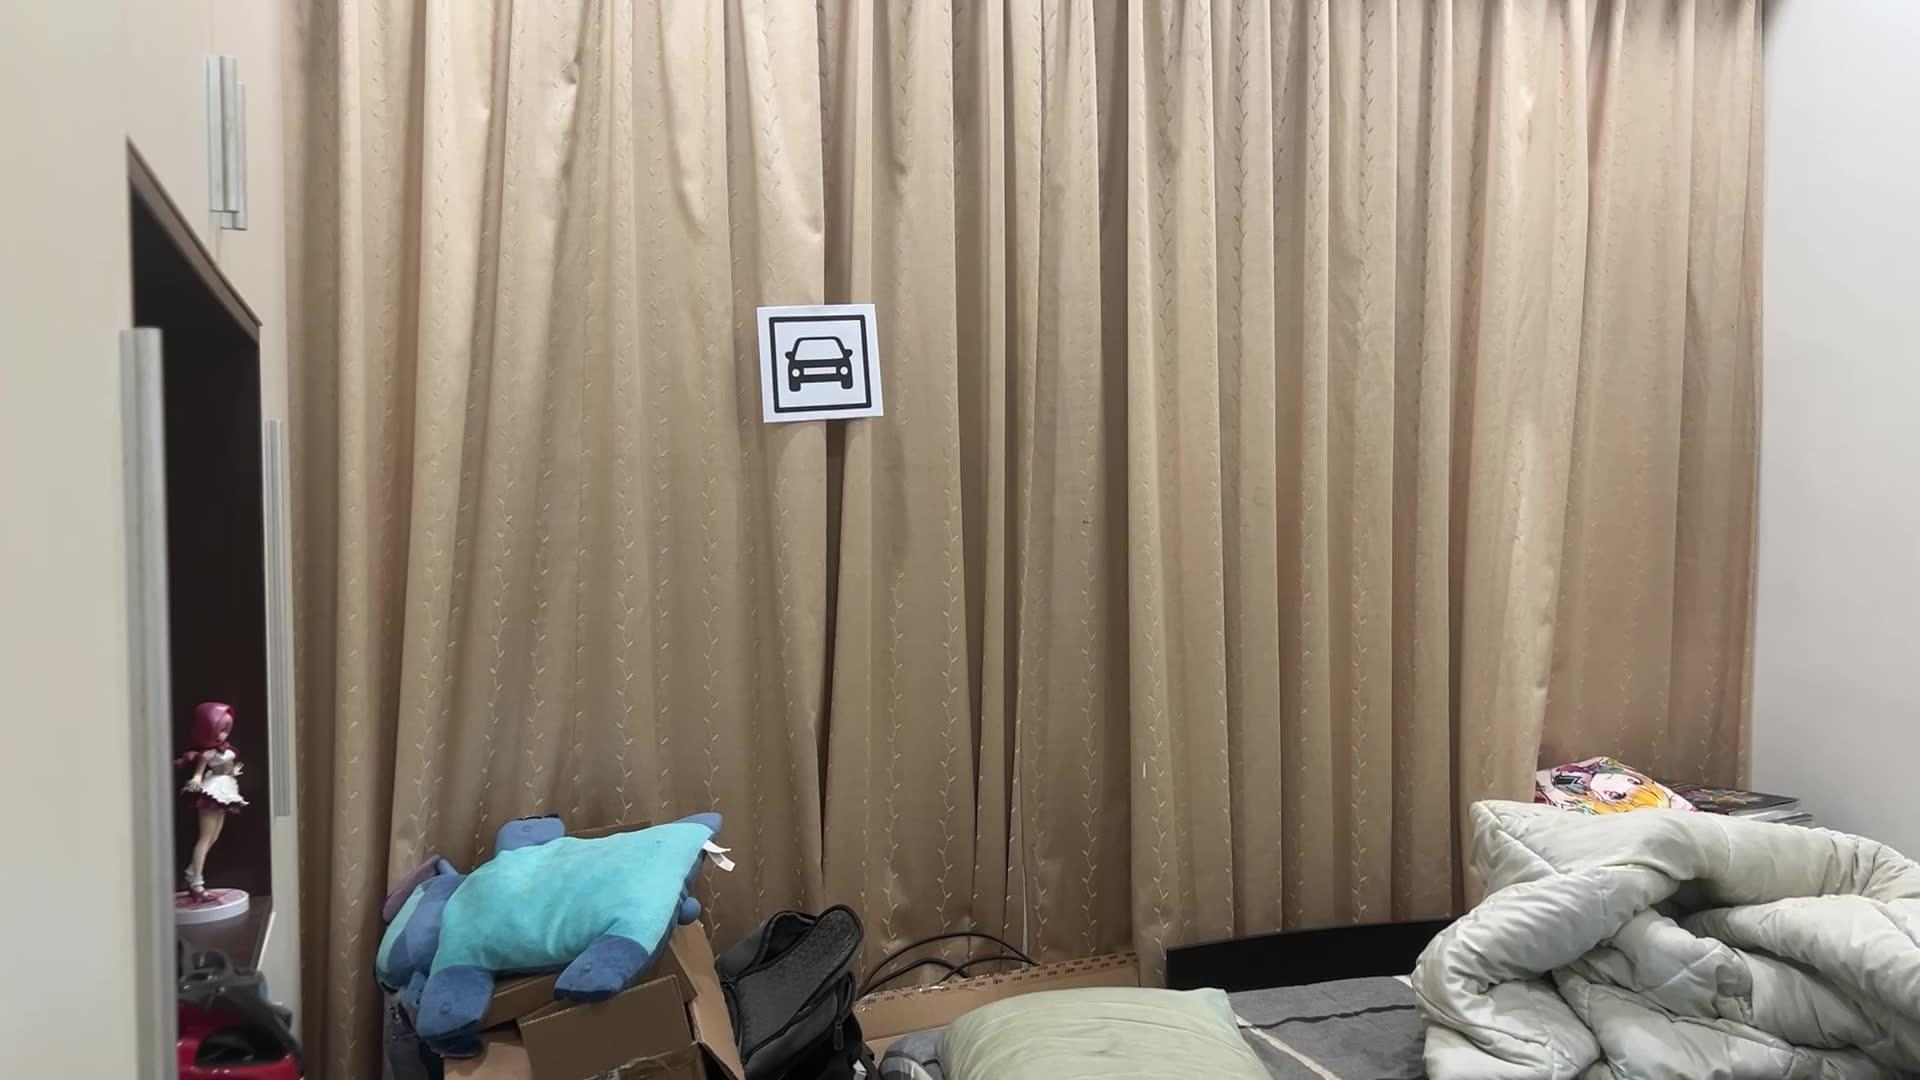car_img: (767, 313, 873, 414)
